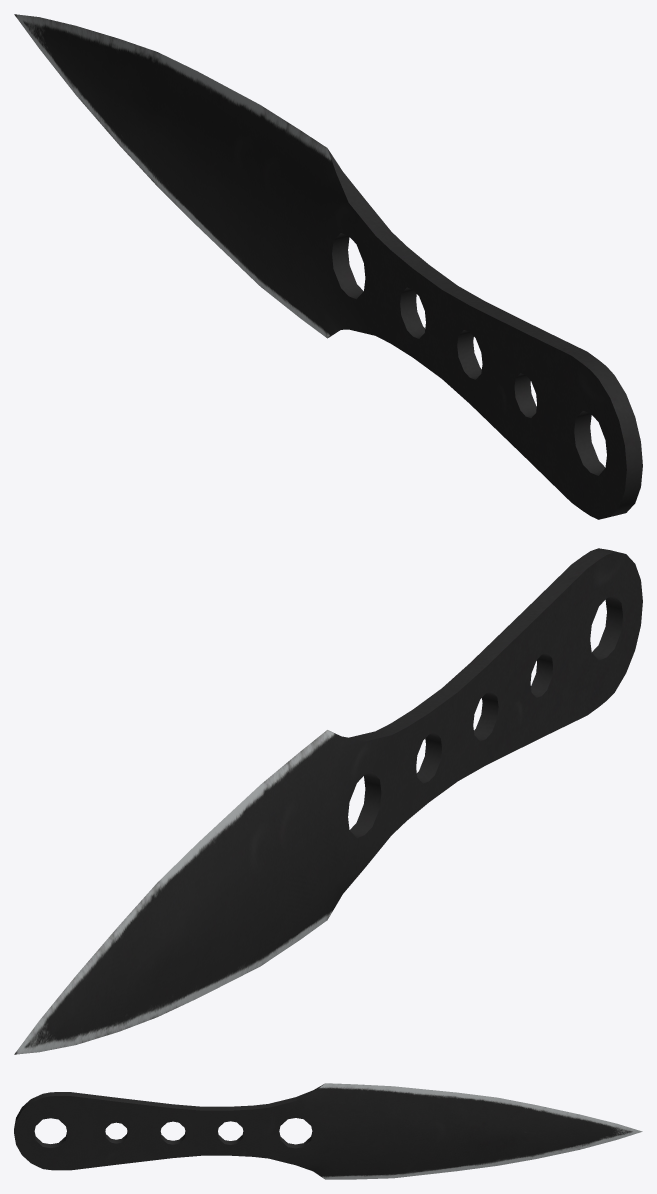
File: throwing_knife.glb
The picture shows the model from 3 angles, top to bottom: view 1: azimuth 30°, elevation 25°; view 2: azimuth 150°, elevation 25°; view 3: azimuth 270°, elevation 25°; orthographic projection. The views are drawn at different scales.
Parts seen in each view (by area): view 1: Throwing_Knife_low; view 2: Throwing_Knife_low; view 3: Throwing_Knife_low.
Boxes of the visible parts, box(x1,y1,x2,y2) form: Throwing_Knife_low: box(14, 14, 642, 519); Throwing_Knife_low: box(14, 548, 642, 1054); Throwing_Knife_low: box(14, 1083, 642, 1179).
Size of the model in its own units: 0.0299 by 0.3386 by 2.
Materials: 1 (1 with a texture image).
